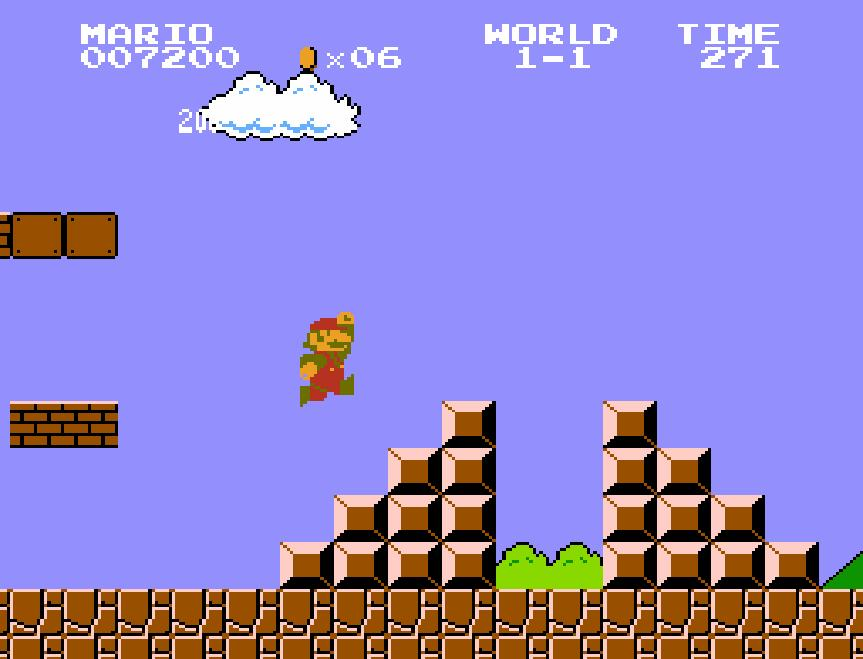big_mario: (298, 310, 356, 408)
